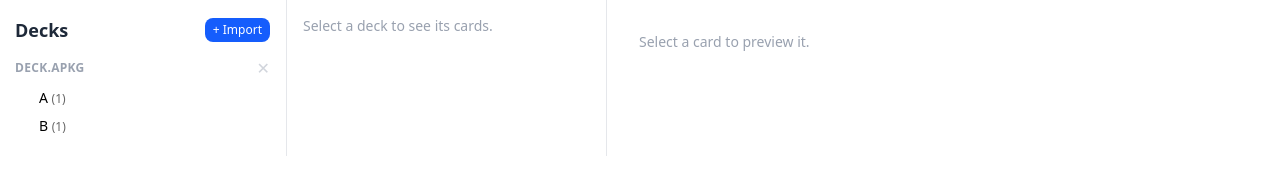
Flashcards page › a stale reviewCounts response for a previous deck cannot overwrite the current deck counts
Note: Select A (its fetch stays pending), then quickly switch to B (its fetch resolves → B's counts paint).
Click the button "A (1)".
click(150, 98)  # box top-left (31, 84), bottom-right (270, 112)
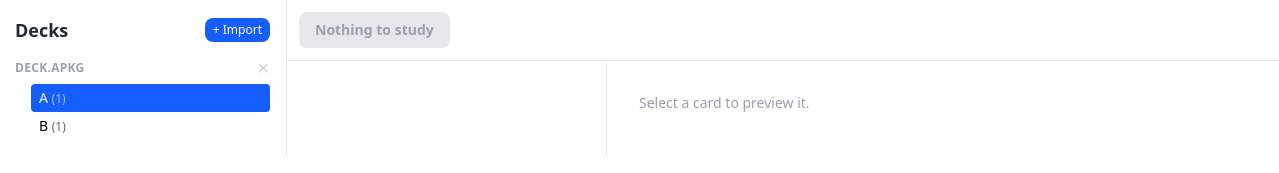
Click the button "B (1)".
click(150, 126)  # box top-left (31, 112), bottom-right (270, 140)
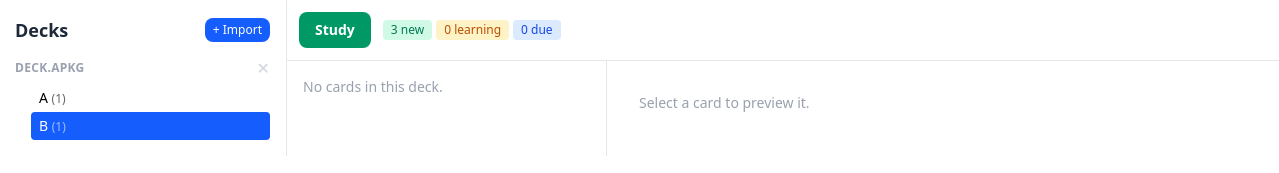
Check: the text "3 new" is shown, box top-left (383, 20), bottom-right (432, 40)
